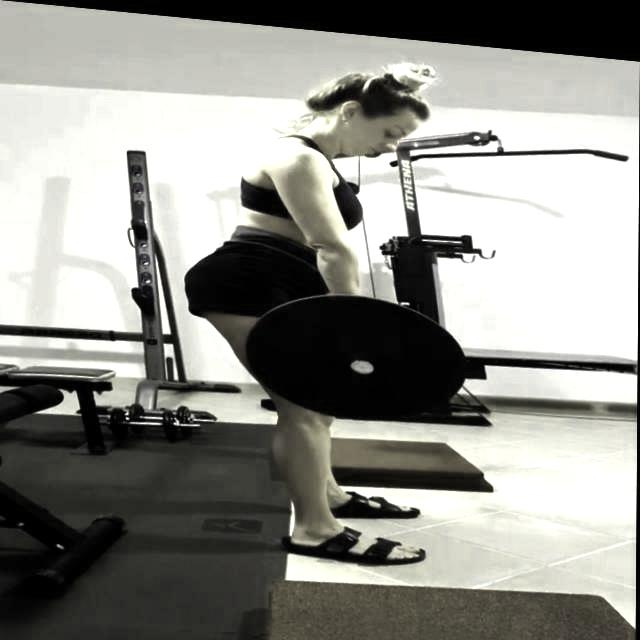barbell: (242, 278, 472, 427)
